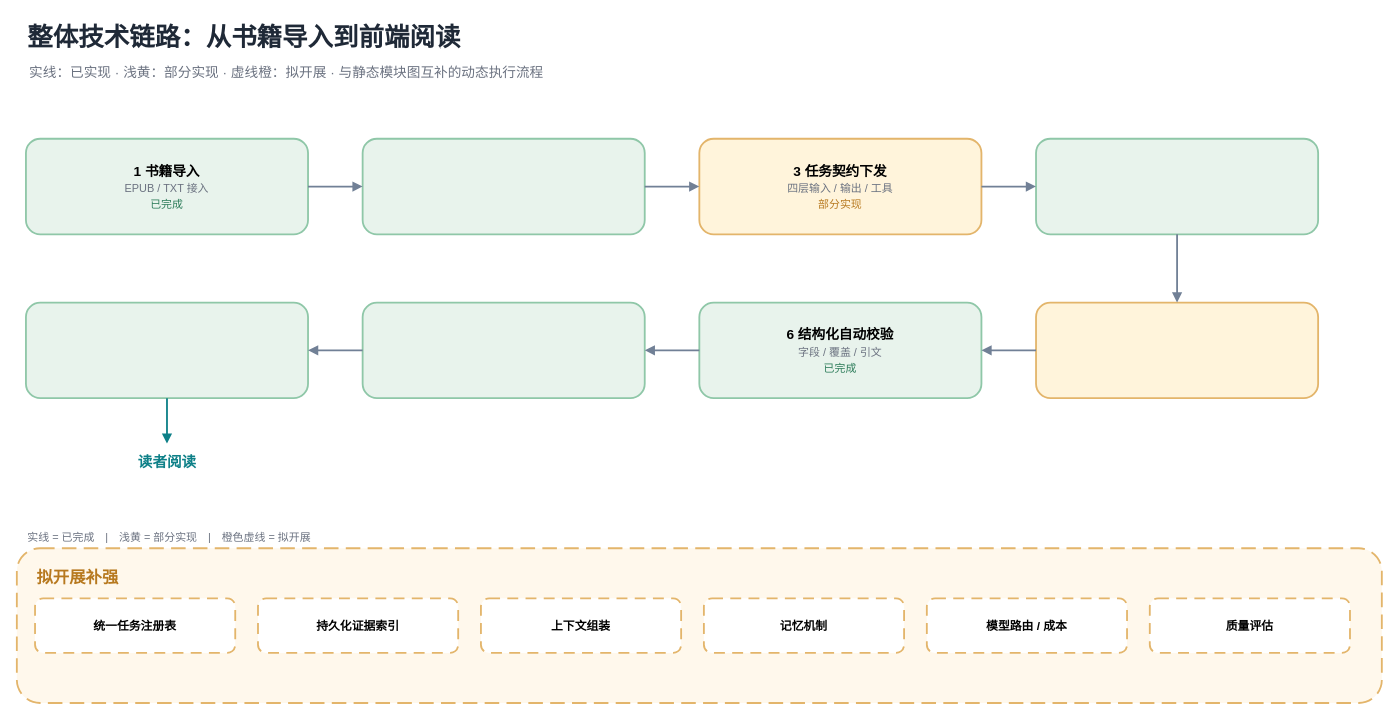
This 1398x719 diagram has some shape labels left out. Each missing label, with the centre of its shape:
2 解析与索引 段落切分 · 指纹 · 定位 已完成: (x=503, y=186)
4 Agent 执行层 工具调用 · 分层生成 已完成: (x=1177, y=186)
5 原文证据回填 章 / 段坐标 + 指纹 部分实现: (x=1177, y=350)
7 结果入库 四层成果 / 笔记 / 对话 已完成: (x=503, y=350)
8 前端阅读器 四层展示 · 笔记 · 对话 已完成: (x=166, y=350)
